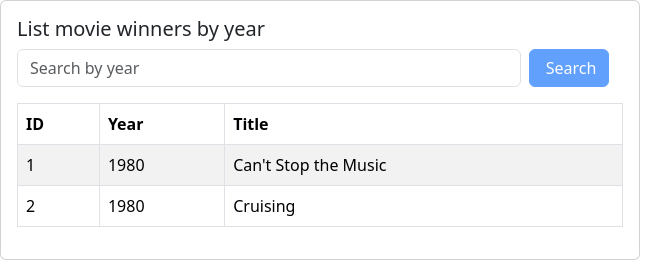
it: MoviesPreview › should enable button when input has value
Type "1980" into the number field with placeholder "Search by year" at [269, 68], box top-left (17, 49), bottom-right (521, 87)
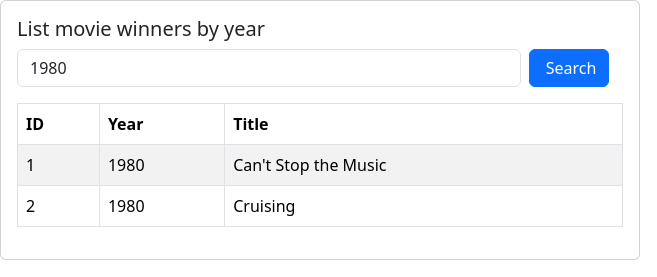
Now the button "Search" is enabled, box top-left (529, 49), bottom-right (609, 87)
